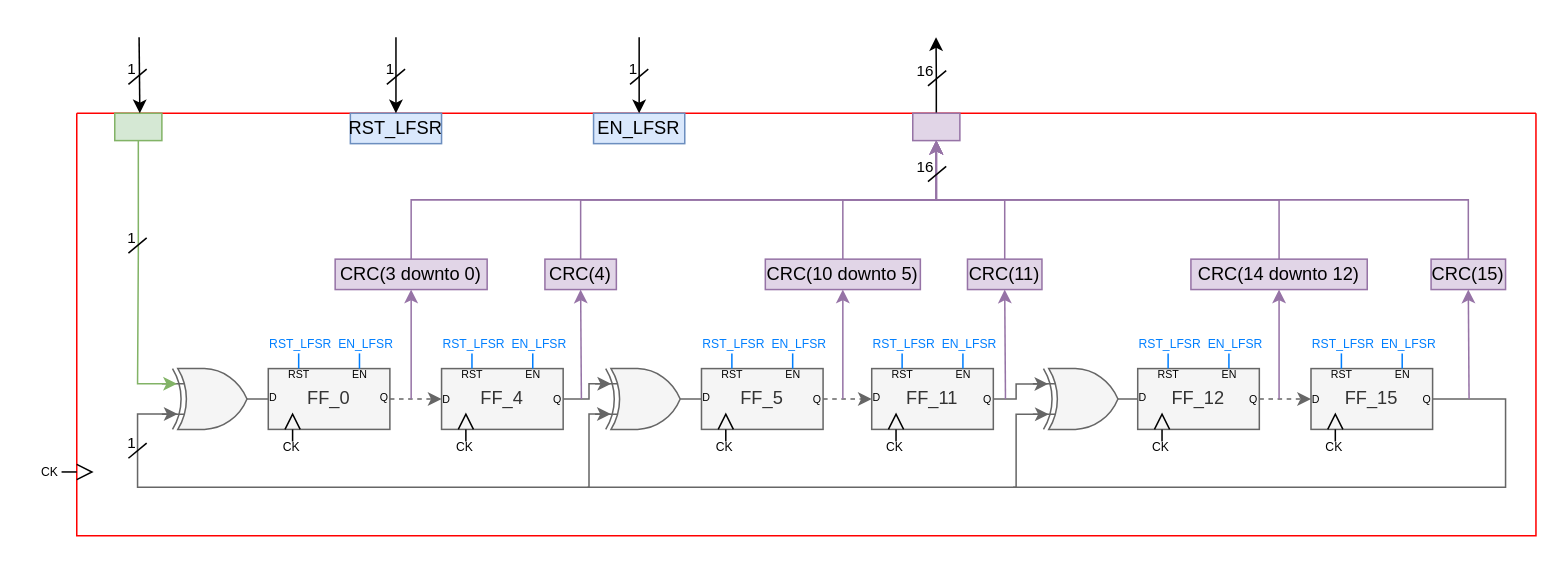
This 1563x562 diagram has some shape labels left out. Each missing label, with the centre of its shape:
CRC: (x=935, y=126)
MSG: (x=137, y=126)
